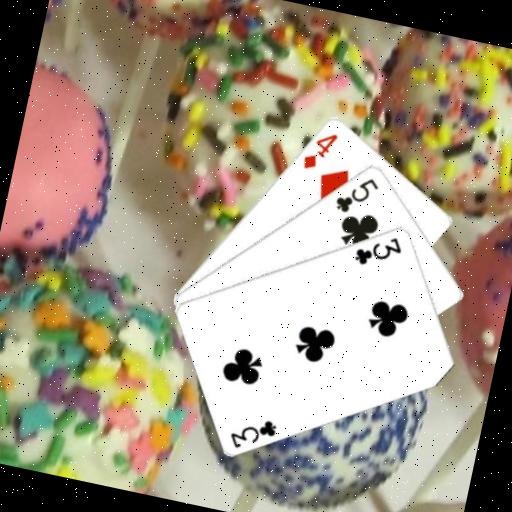3C: (350, 225, 406, 273), (224, 409, 279, 457)
4D: (297, 123, 340, 175)
5C: (330, 168, 382, 220)
